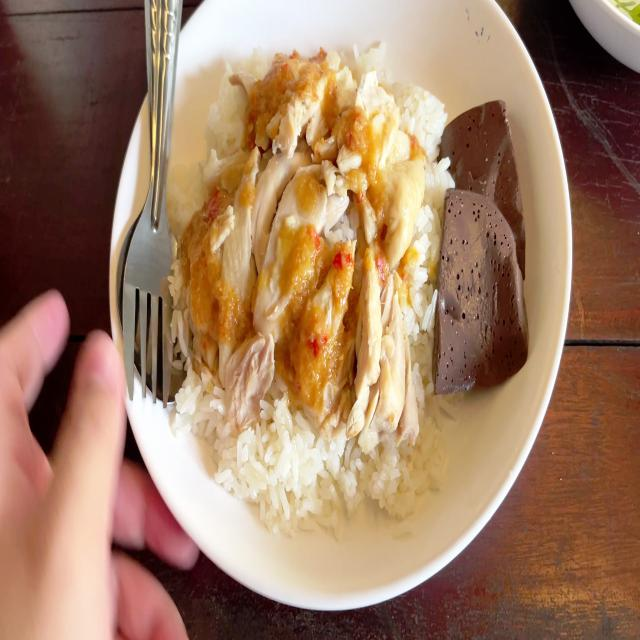boiled_chicken: (207, 75, 416, 400)
boiled_chicken_blood_jelly: (432, 182, 526, 380), (436, 100, 533, 263)
chicken_rice: (187, 15, 534, 539)
